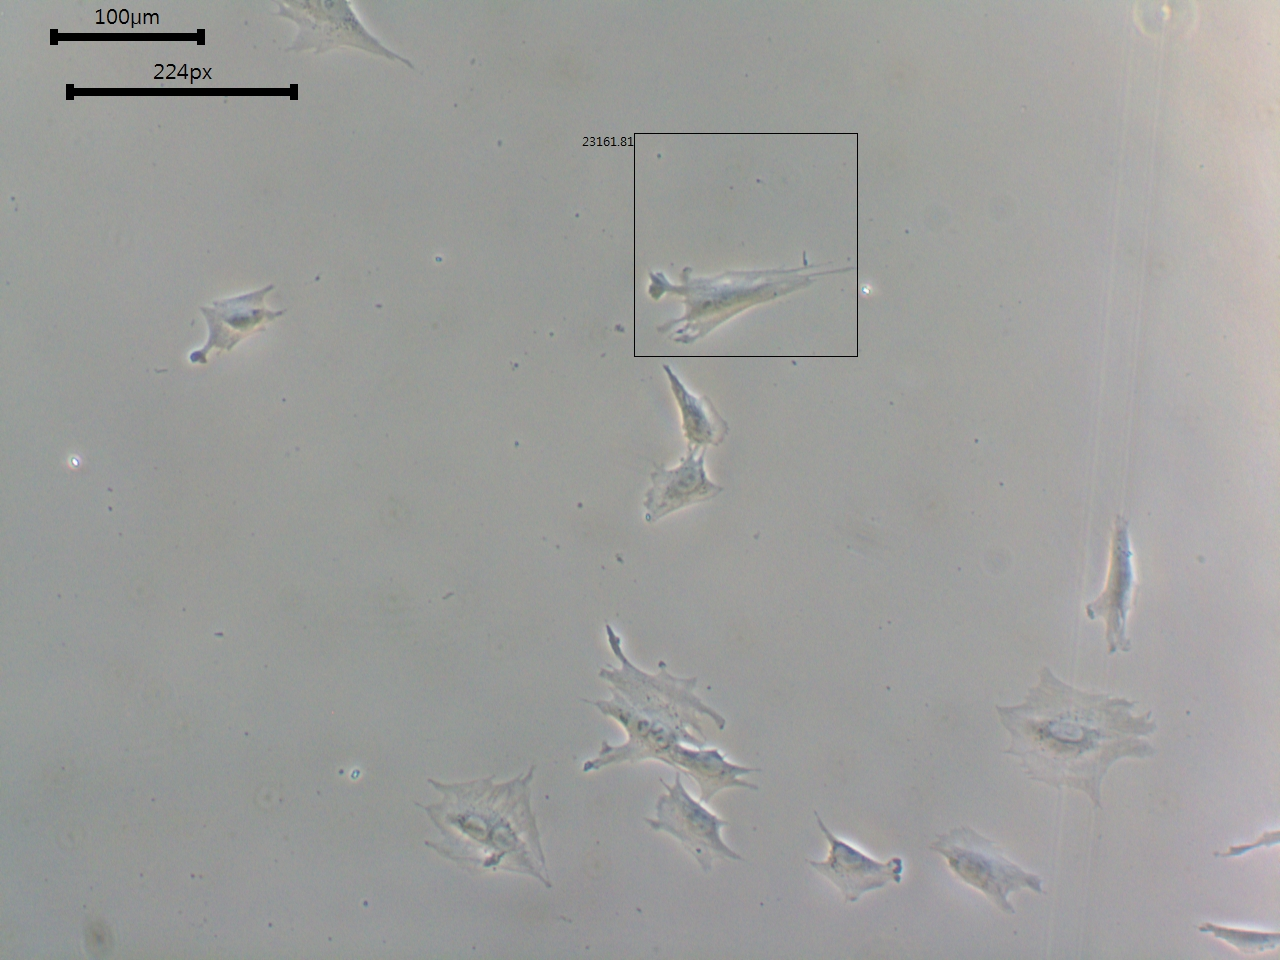dividing: (561, 617, 776, 797), (412, 765, 551, 897)
medium-polygonal: (647, 244, 853, 352)
medium-spread: (991, 667, 1161, 816)
small-polygonal: (174, 277, 300, 383), (799, 819, 914, 923), (1078, 519, 1150, 667), (652, 363, 734, 450)
small-spread: (933, 818, 1050, 926), (639, 454, 729, 533)
